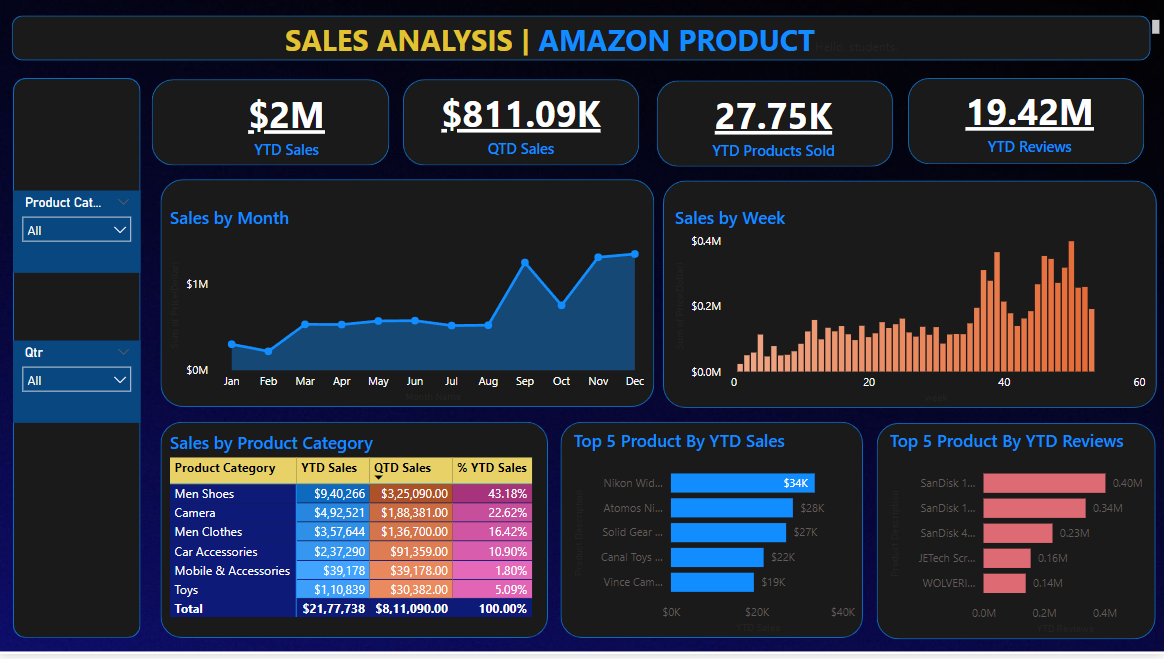

What the dashboard file says about the page in this screenshot:
{"tool":"powerbi","page":{"name":"Page 1","canvas":[1280,720],"ordinal":0},"visuals":[{"type":"shape","box":[15.1,19.2,1250.1,49.4],"z":0},{"type":"shape","box":[169.1,88.9,260.7,94.7],"z":0,"group":"g1"},{"type":"textbox","box":[30.2,19.2,1250.1,49.4],"z":1000},{"type":"card","fields":{"Values":["Amazon_Data.YTD Sales"]},"box":[204,90,227.8,94.7],"z":1000,"group":"g1"},{"type":"shape","box":[16.5,87.3,140,614.8],"z":2000},{"type":"shape","box":[445.2,88.3,259.3,94.7],"z":2000,"group":"g1"},{"type":"group","id":"g1","title":"Group 1","box":[169.1,87.5,1090.9,97.4],"z":3000},{"type":"card","fields":{"Values":["Amazon_Data.QTD Sales"]},"box":[460.8,88.9,226.4,94.7],"z":3000,"group":"g1"},{"type":"shape","box":[724,90.2,259.3,94.7],"z":4000,"group":"g1"},{"type":"shape","title":"Sales by Month","box":[178.4,199,542,250],"z":4000},{"type":"shape","box":[999.8,87.5,259.3,94.7],"z":5000,"group":"g1"},{"type":"areaChart","title":"Sales by Month","fields":{"Y":["Sum(Amazon_Data.Price(Dollar))"],"Category":["Date Table.Month Name"]},"box":[183.9,227.8,536.5,220.9],"z":5000},{"type":"card","fields":{"Values":["Amazon_Data.YTD Products Sold"]},"box":[738.3,91.1,226.4,93.6],"z":6000,"group":"g1"},{"type":"shape","title":"Sales by Month","box":[730,200.3,542,249.7],"z":6000},{"type":"card","fields":{"Values":["Amazon_Data.YTD Reviews"]},"box":[1020.1,87.8,226.4,93.3],"z":7000,"group":"g1"},{"type":"columnChart","title":"Sales by Week","fields":{"Category":["Date Table.week"],"Y":["Sum(Amazon_Data.Price(Dollar))"]},"box":[738.3,227.8,526.9,222.3],"z":7000},{"type":"shape","title":"Sales by Product Category","box":[178.4,465.2,425.4,237.4],"z":8000},{"type":"pivotTable","title":"Sales by Product Category","fields":{"Rows":["Amazon_Data.Product Category"],"Values":["Amazon_Data.YTD Sales1","Amazon_Data.QTD Sales","Amazon_Data.YTD Sales"]},"box":[183.9,474.8,433.6,229.2],"z":9000},{"type":"shape","title":"Sales by Product Category","box":[617.5,465.2,332.1,237.4],"z":10000},{"type":"shape","title":"Sales by Product Category","box":[964.7,466.6,306,237.4],"z":11000},{"type":"barChart","title":"Top 5 Product By YTD Sales","fields":{"Category":["Amazon_Data.Product Description"],"Y":["Amazon_Data.YTD Sales"]},"box":[627.1,473.4,322.5,229.2],"z":12000},{"type":"barChart","title":"Top 5 Product By YTD Reviews","fields":{"Category":["Amazon_Data.Product Description"],"Y":["Amazon_Data.YTD Reviews"]},"box":[974.3,473.4,306,230.5],"z":13000},{"type":"slicer","fields":{"Values":["Amazon_Data.Product Category"]},"box":[16.5,211.3,140,90.6],"z":13001},{"type":"slicer","fields":{"Values":["Date Table.Qtr"]},"box":[16.5,376,140,90.6],"z":13002}]}

Visuals, with their boxes in screenshot pixels (x1, y1, x2, y2), scaled from the page's 1280x720 canvas onto the 1164x659 screenshot:
shape: region(14, 18, 1151, 63)
shape: region(154, 81, 391, 168)
textbox: region(27, 18, 1163, 63)
card - Amazon_Data.YTD Sales: region(186, 82, 393, 169)
shape: region(15, 80, 142, 643)
shape: region(405, 81, 641, 167)
"Group 1" group: region(154, 80, 1146, 169)
card - Amazon_Data.QTD Sales: region(419, 81, 625, 168)
shape: region(658, 83, 894, 169)
"Sales by Month" shape: region(162, 182, 655, 411)
shape: region(909, 80, 1145, 167)
"Sales by Month" areaChart: region(167, 209, 655, 411)
card - Amazon_Data.YTD Products Sold: region(671, 83, 877, 169)
"Sales by Month" shape: region(664, 183, 1157, 412)
card - Amazon_Data.YTD Reviews: region(928, 80, 1134, 166)
"Sales by Week" columnChart: region(671, 209, 1151, 412)
"Sales by Product Category" shape: region(162, 426, 549, 643)
"Sales by Product Category" pivotTable: region(167, 435, 562, 644)
"Sales by Product Category" shape: region(562, 426, 864, 643)
"Sales by Product Category" shape: region(877, 427, 1156, 644)
"Top 5 Product By YTD Sales" barChart: region(570, 433, 864, 643)
"Top 5 Product By YTD Reviews" barChart: region(886, 433, 1163, 644)
slicer - Amazon_Data.Product Category: region(15, 193, 142, 276)
slicer - Date Table.Qtr: region(15, 344, 142, 427)
